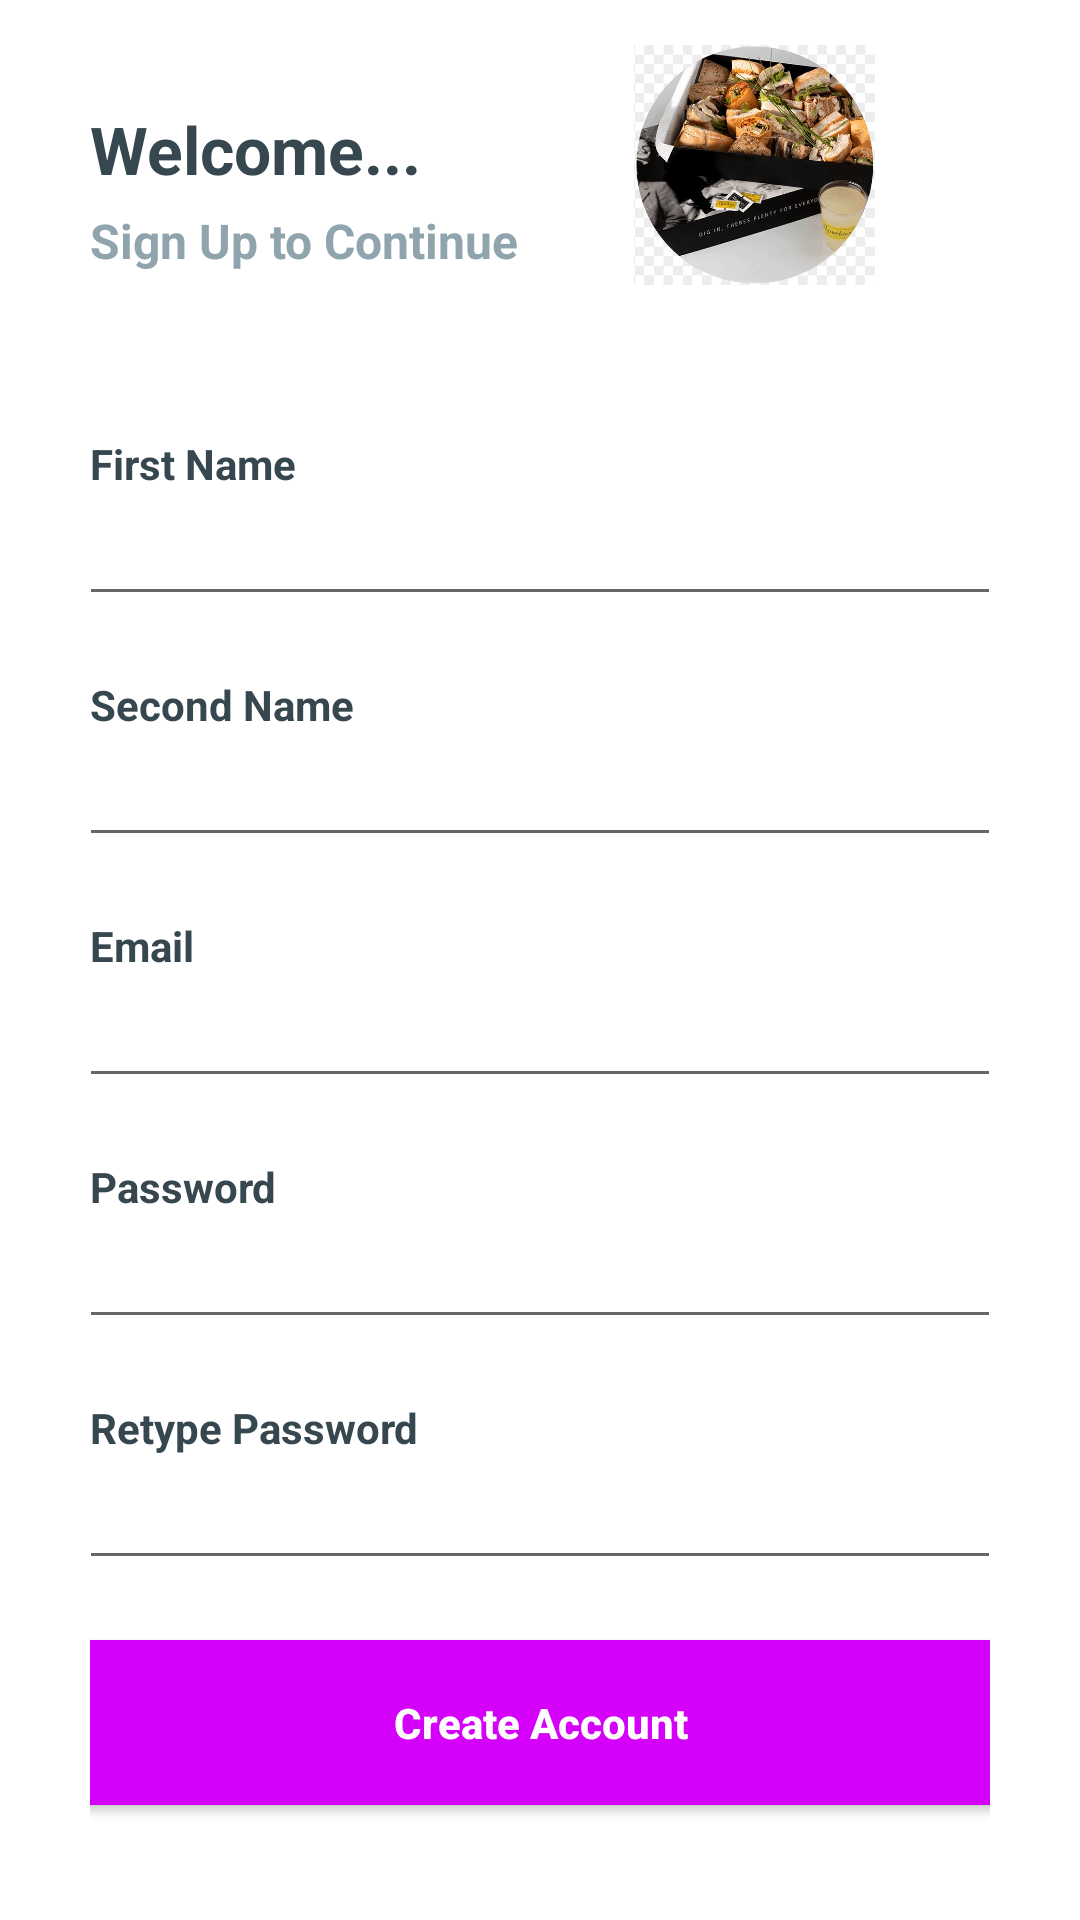

Icon click points for this 1080px×1920px phone screenshot, format [x,y]:
munchies: [755,164]
